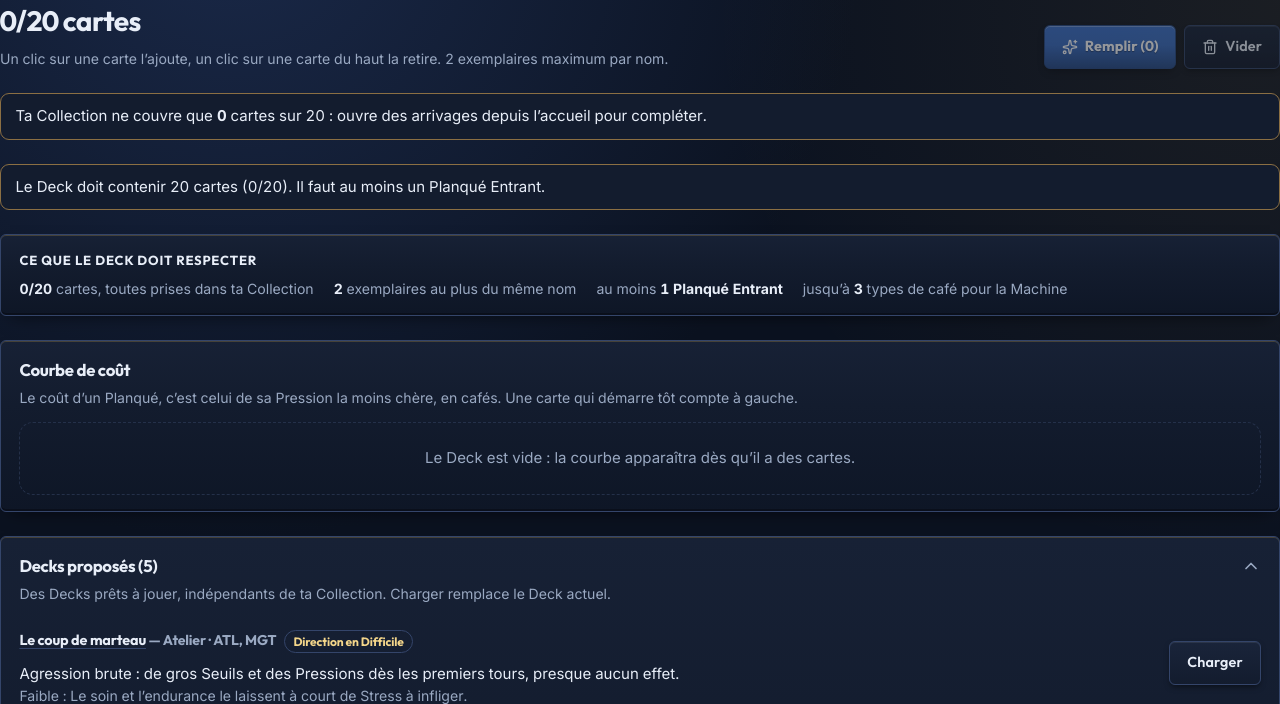
Test: Deck — présentation d’un Deck proposé (#251) › charge le Deck depuis le panneau, avec ses types de café
The width and height of the screenshot is (1280, 704).
Click the button "Le coup de marteau". click: (83, 641)
box: [19,619,146,663]
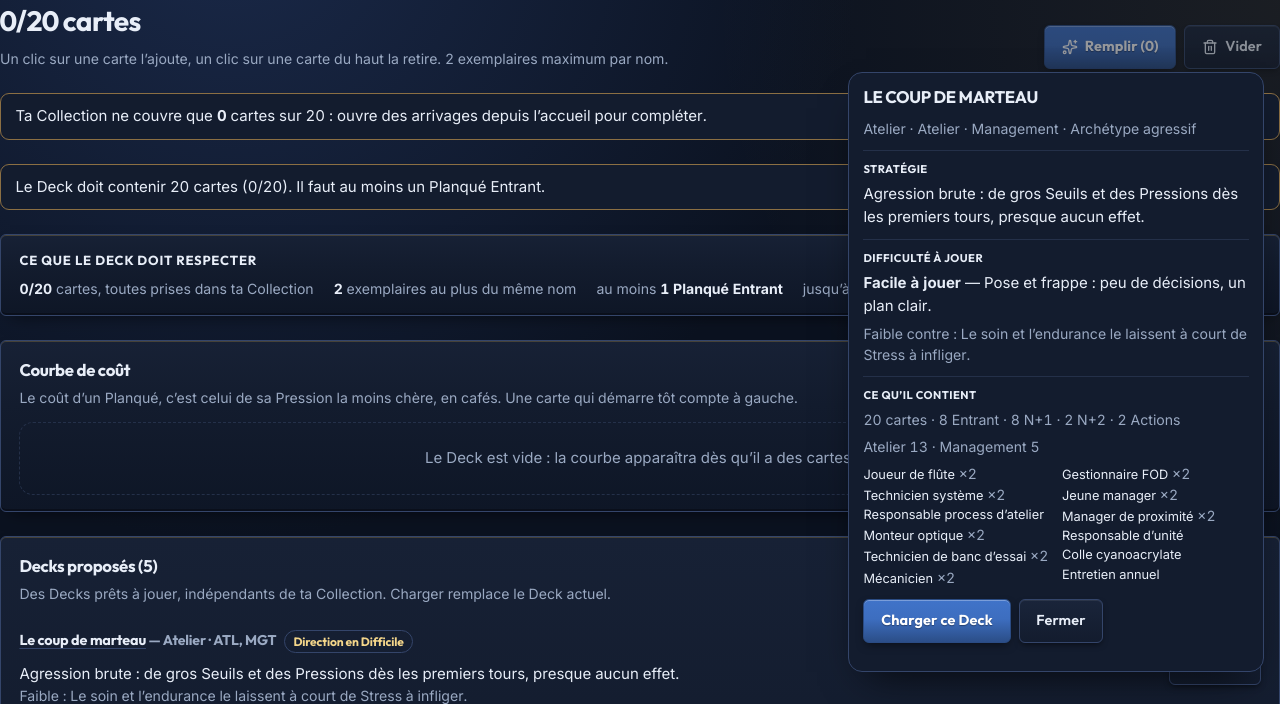
Click the button "Charger ce Deck". click: (937, 621)
box: [863,599,1010,643]
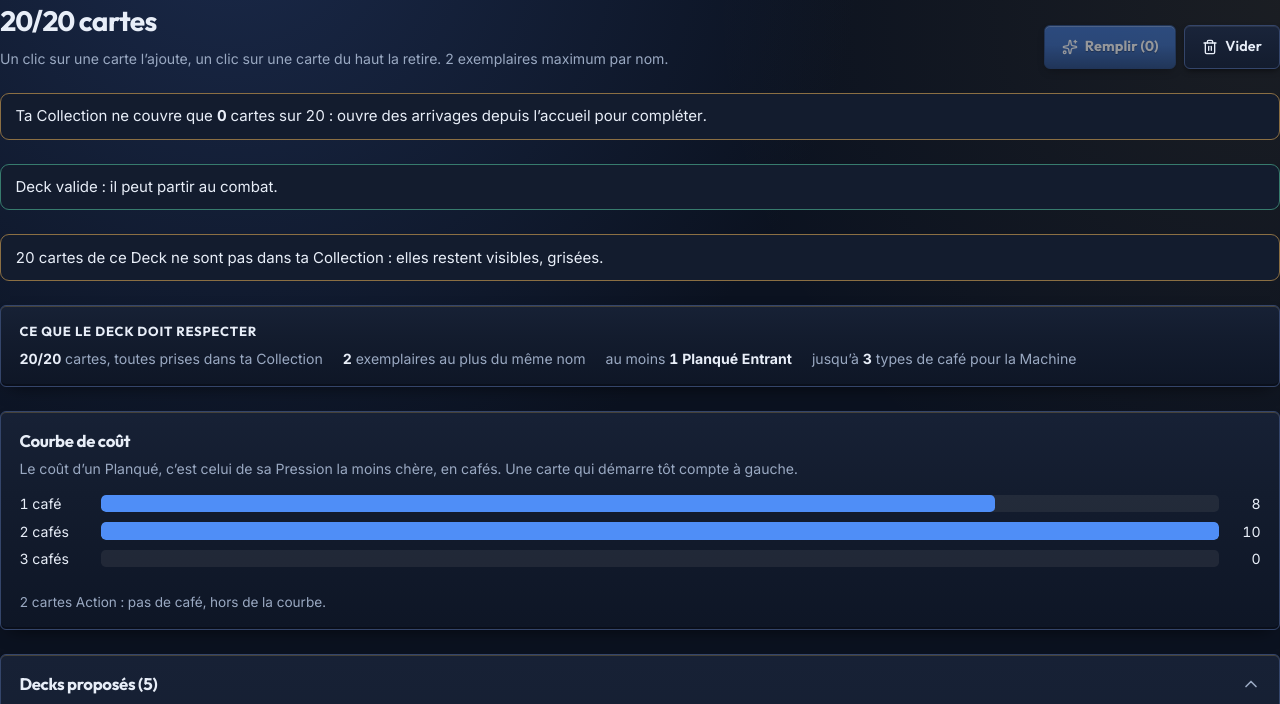
Now the dialog is gone
